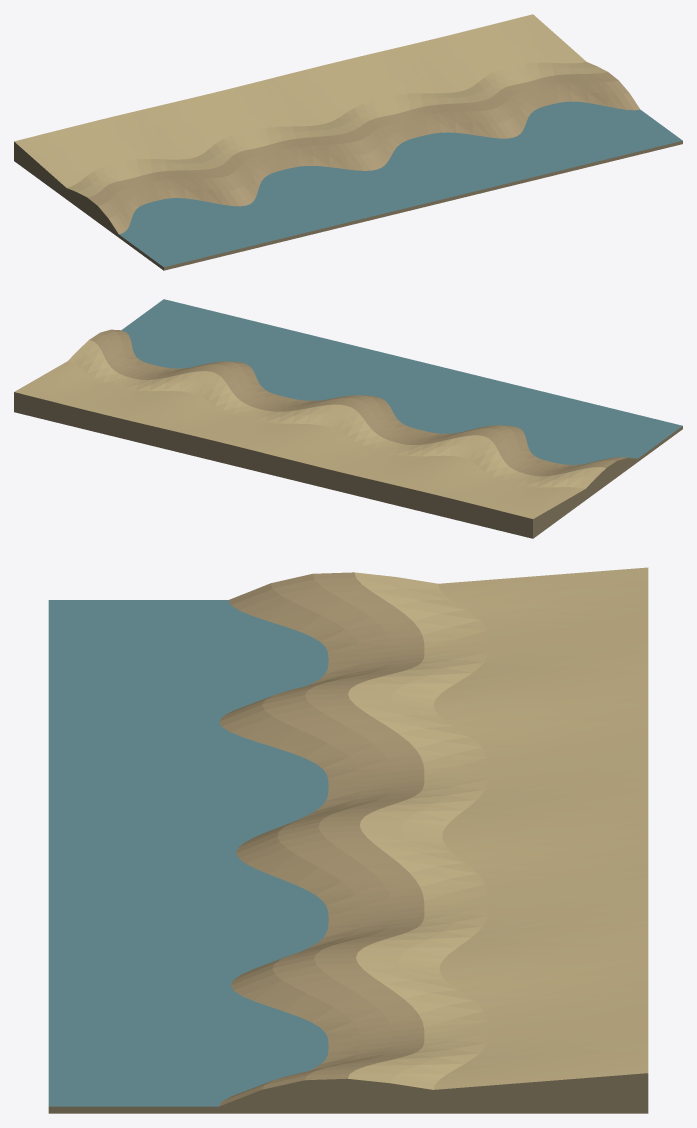
3 views of the same model, one above another, from view 1: azimuth 30°, elevation 25°; view 2: azimuth 150°, elevation 25°; view 3: azimuth 270°, elevation 25° (orthographic). The views are drawn at different scales.
Visible parts, largest first — view 1: continuous_swash_beach_five_horns_four_crescent_bays; view 2: continuous_swash_beach_five_horns_four_crescent_bays; view 3: continuous_swash_beach_five_horns_four_crescent_bays.
Part boxes in pixels (x1,y1,x2,y2): continuous_swash_beach_five_horns_four_crescent_bays: (14,14,682,270); continuous_swash_beach_five_horns_four_crescent_bays: (14,299,682,538); continuous_swash_beach_five_horns_four_crescent_bays: (48,567,648,1113).
Bounding box in the file's own units: 120 × 4.47 × 60.
